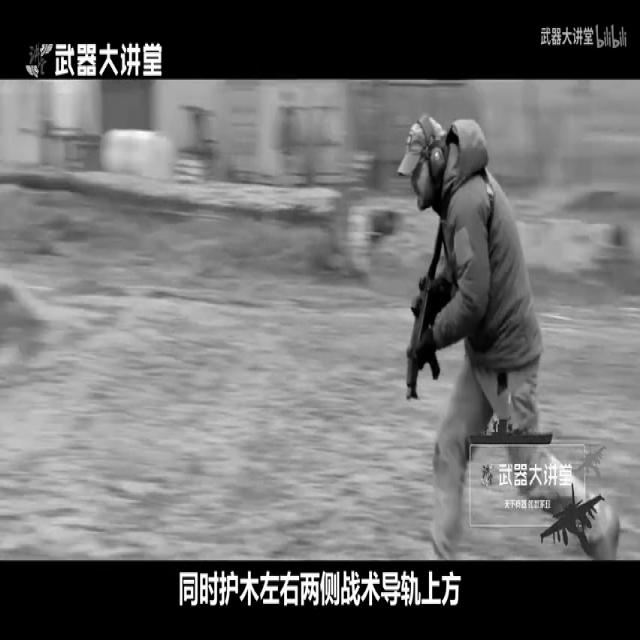Sub-machine-gun: (403, 248, 442, 401)
